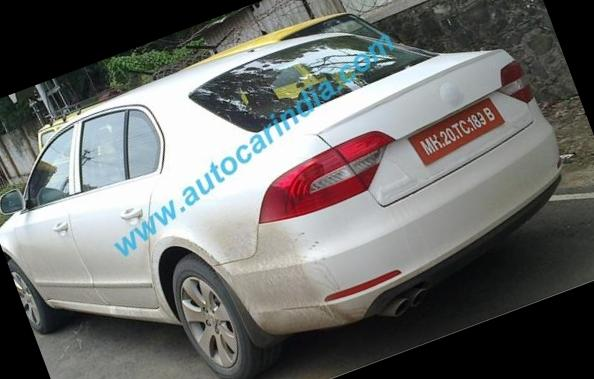plate: (393, 87, 527, 173)
